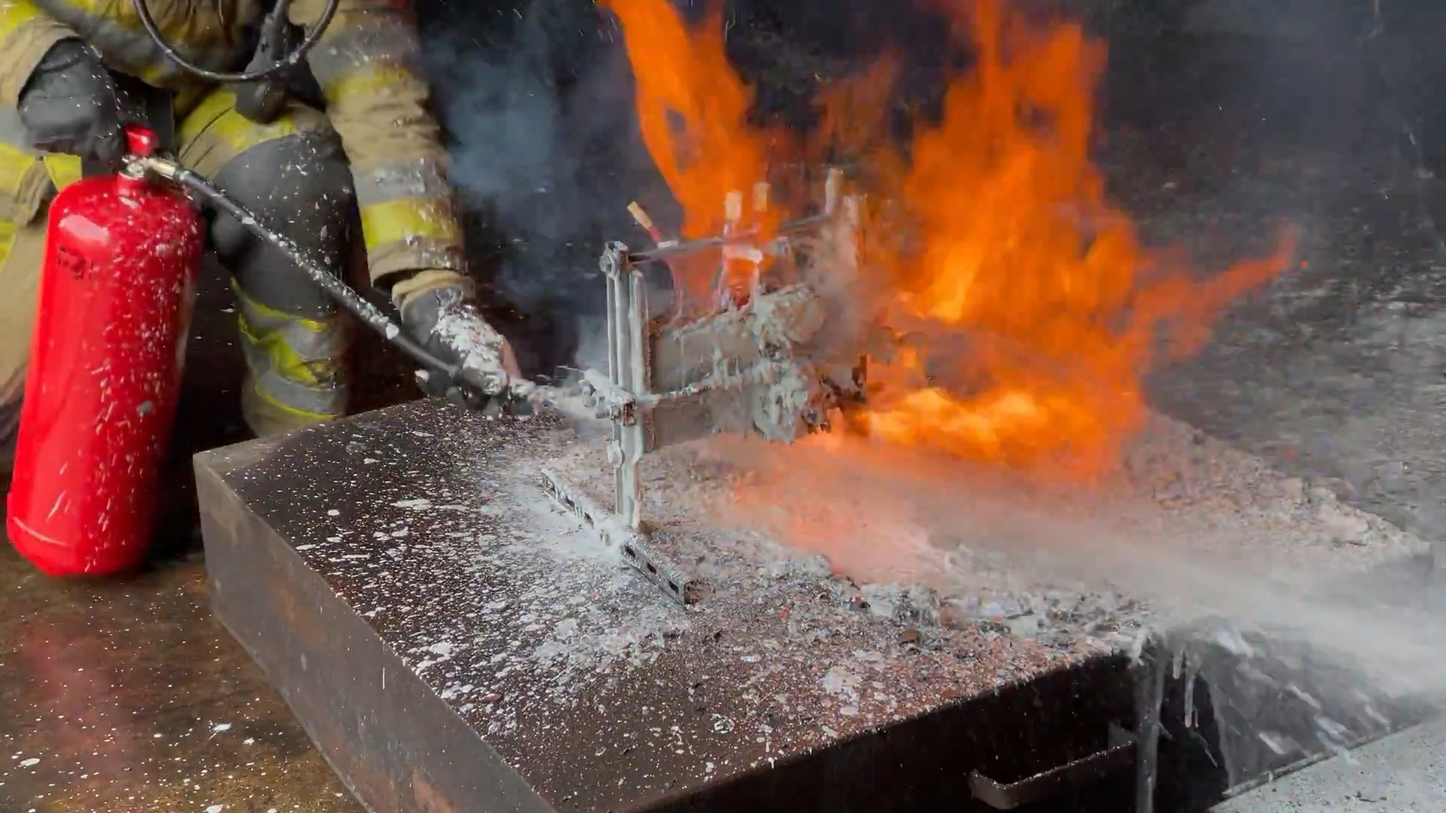fire: (600, 0, 1308, 498)
smoke: (1090, 0, 1445, 292), (410, 0, 653, 373)
